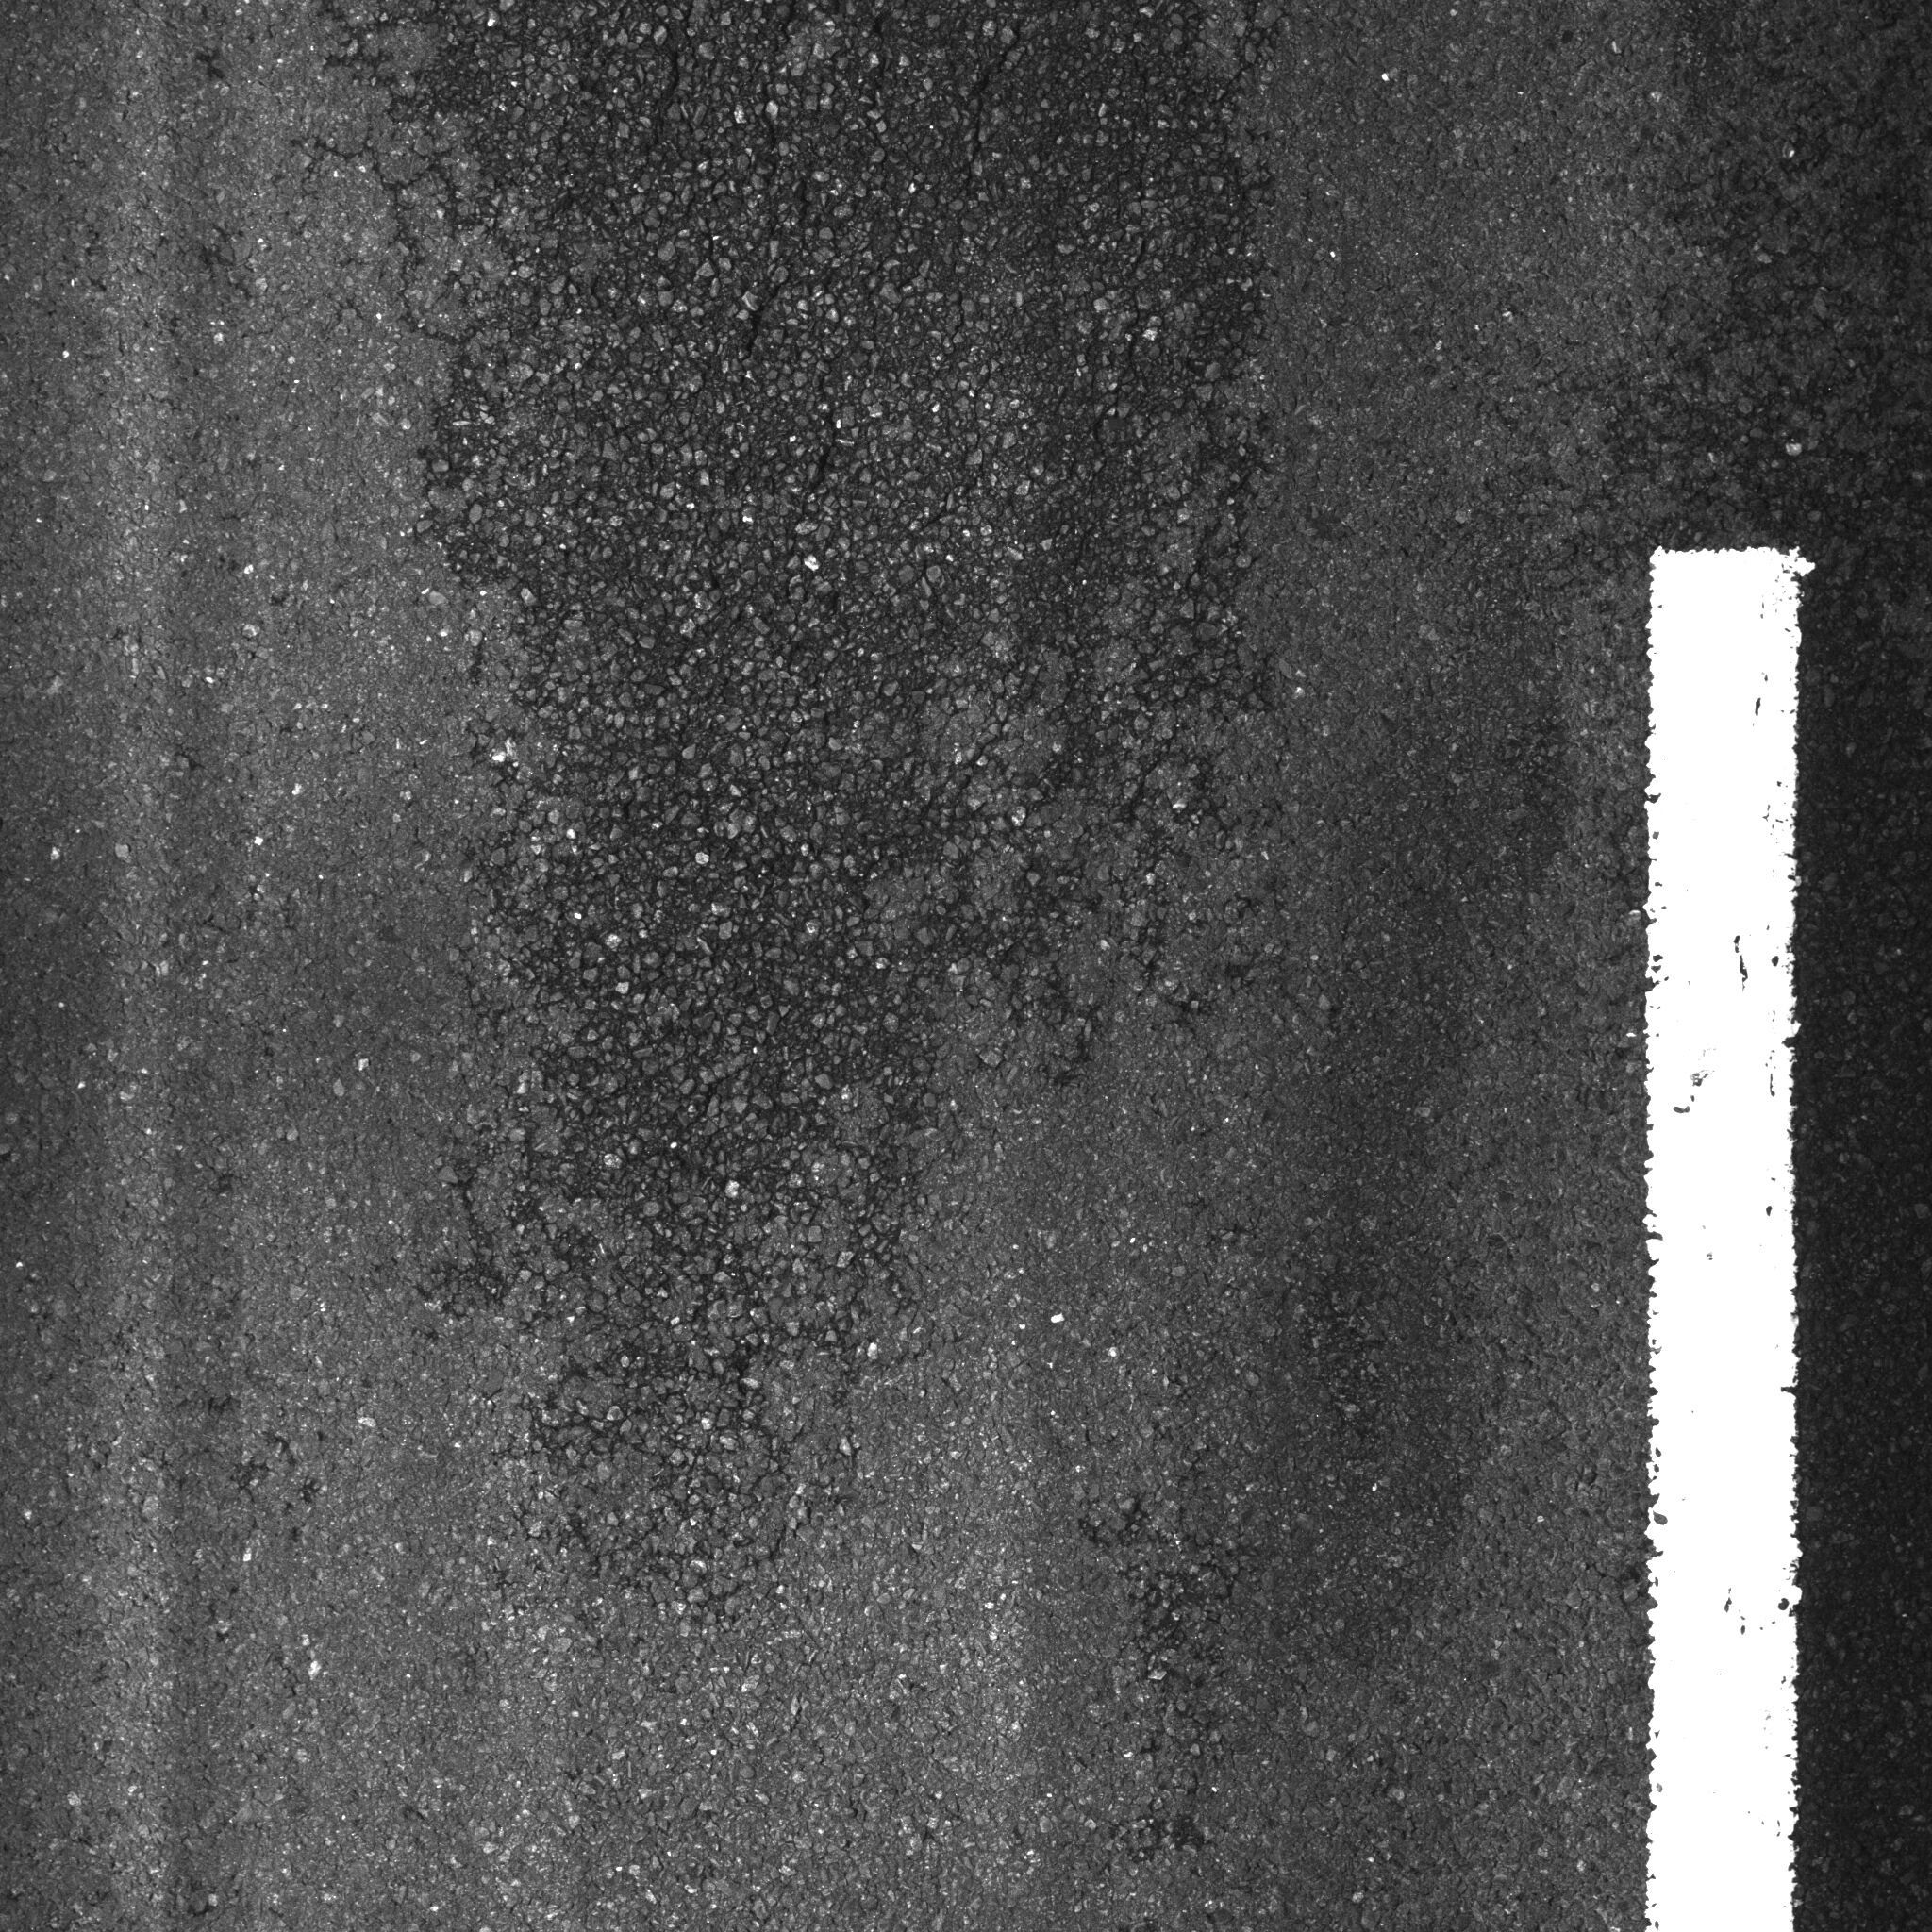alligator: (241, 5, 1361, 1497)
